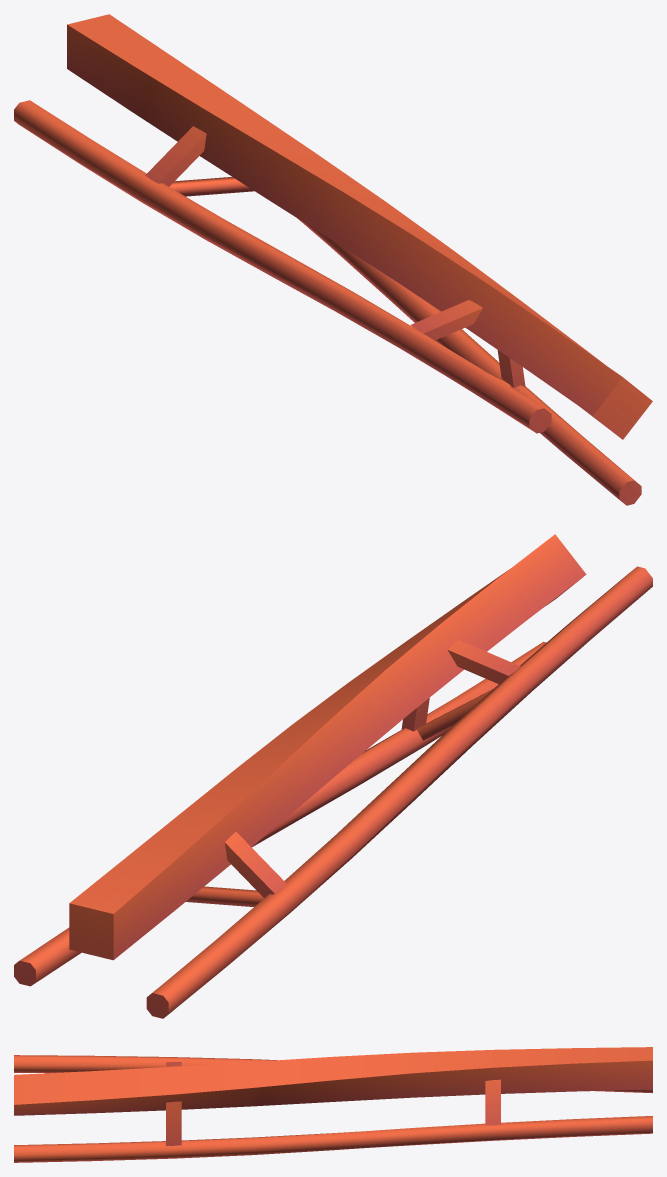
The model's file is kenney-coaster-coaster-hanging-straight-skew-left.glb.
3 views of the same model, one above another, from view 1: azimuth 30°, elevation 25°; view 2: azimuth 150°, elevation 25°; view 3: azimuth 270°, elevation 25° (orthographic). The views are drawn at different scales.
Visible parts, largest first — view 1: coaster-hanging-straight-skew-left; view 2: coaster-hanging-straight-skew-left; view 3: coaster-hanging-straight-skew-left.
Boxes of the visible parts, <box> form: coaster-hanging-straight-skew-left: <box>14,14,652,505</box>; coaster-hanging-straight-skew-left: <box>14,534,652,1018</box>; coaster-hanging-straight-skew-left: <box>14,1047,652,1162</box>.
Size of the model in its own units: 0.7075 by 0.6421 by 4.
Materials: 1 (1 with a texture image).
